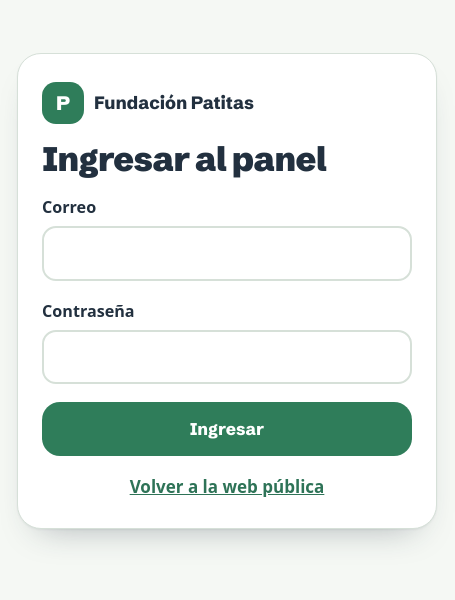
Test: panel access › shows the backend's message when the password is wrong
The width and height of the screenshot is (455, 600).
Type "marta@patitas.cl" into the field labelled "Correo".
click(227, 253); type("marta@patitas.cl")  # box [42,226,412,281]
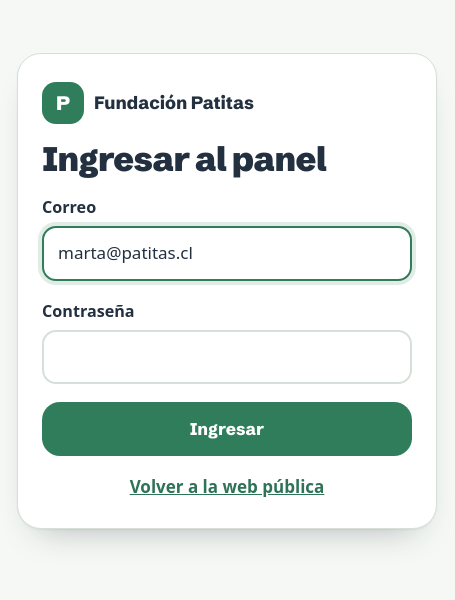
Type "mala" into the password field labelled "Contraseña".
click(227, 357); type("mala")  # box [42,330,412,384]
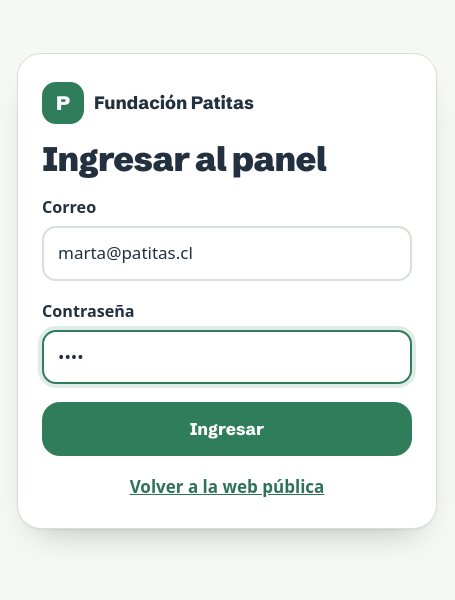
Click the button "Ingresar".
click(227, 429)  # box [42,402,412,456]
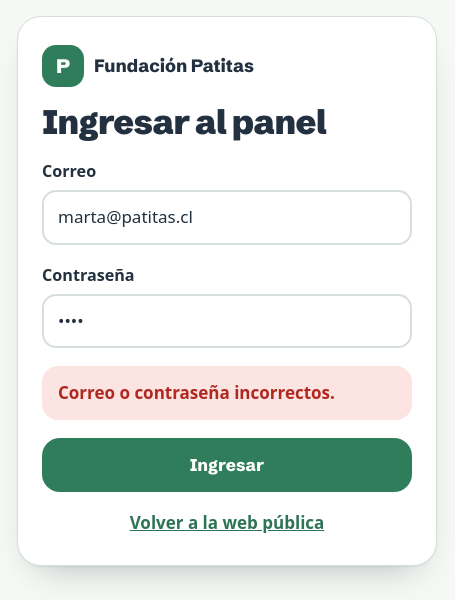
Expected: the text "Correo o contraseña incorrectos." is shown, [42,366,412,420]
